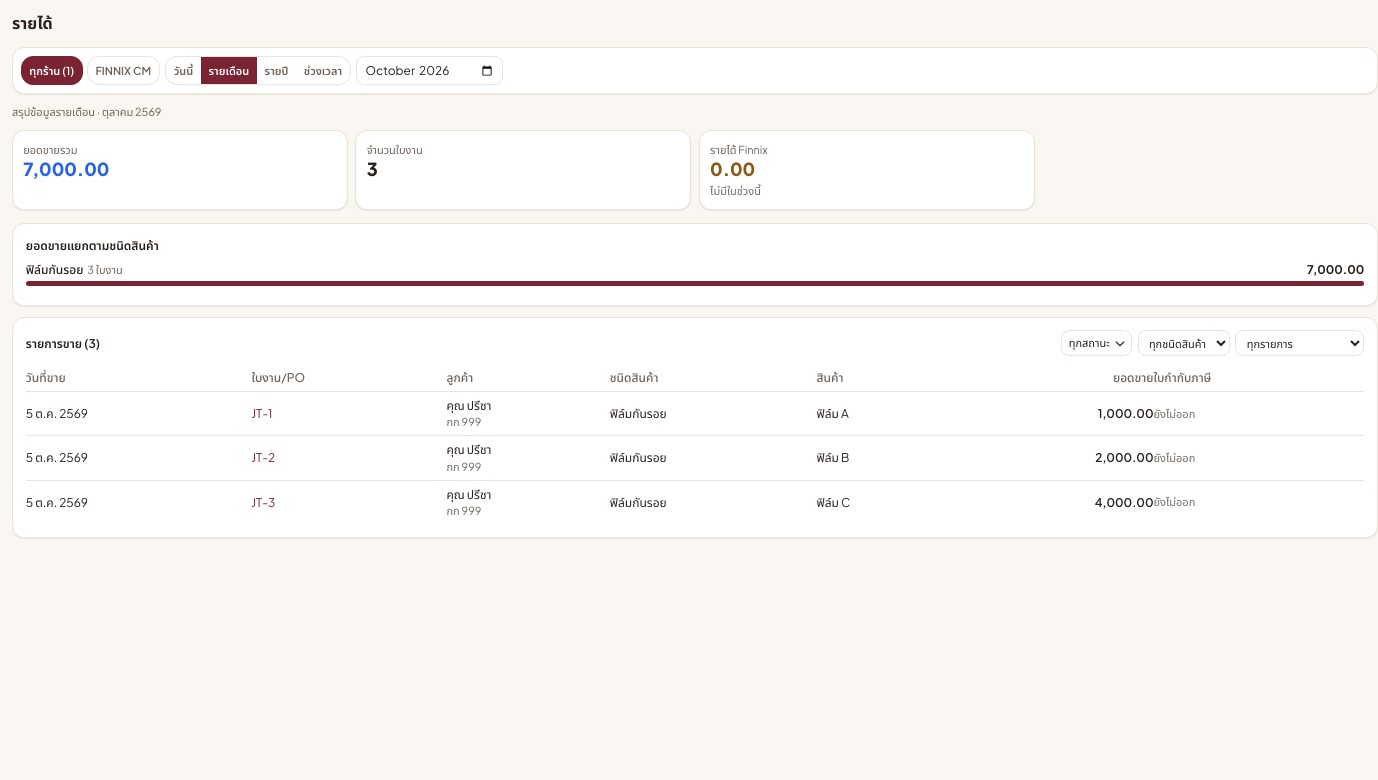
Scenario: RevenueModule — กรองตามสถานะงาน › เสนอเฉพาะสถานะที่มีจริงในช่วงที่ดูอยู่
The image size is (1378, 780).
Click the button with aria-label "กรองตามสถานะงาน". click: coordinates (1097, 343)
box: [1061,330,1132,356]
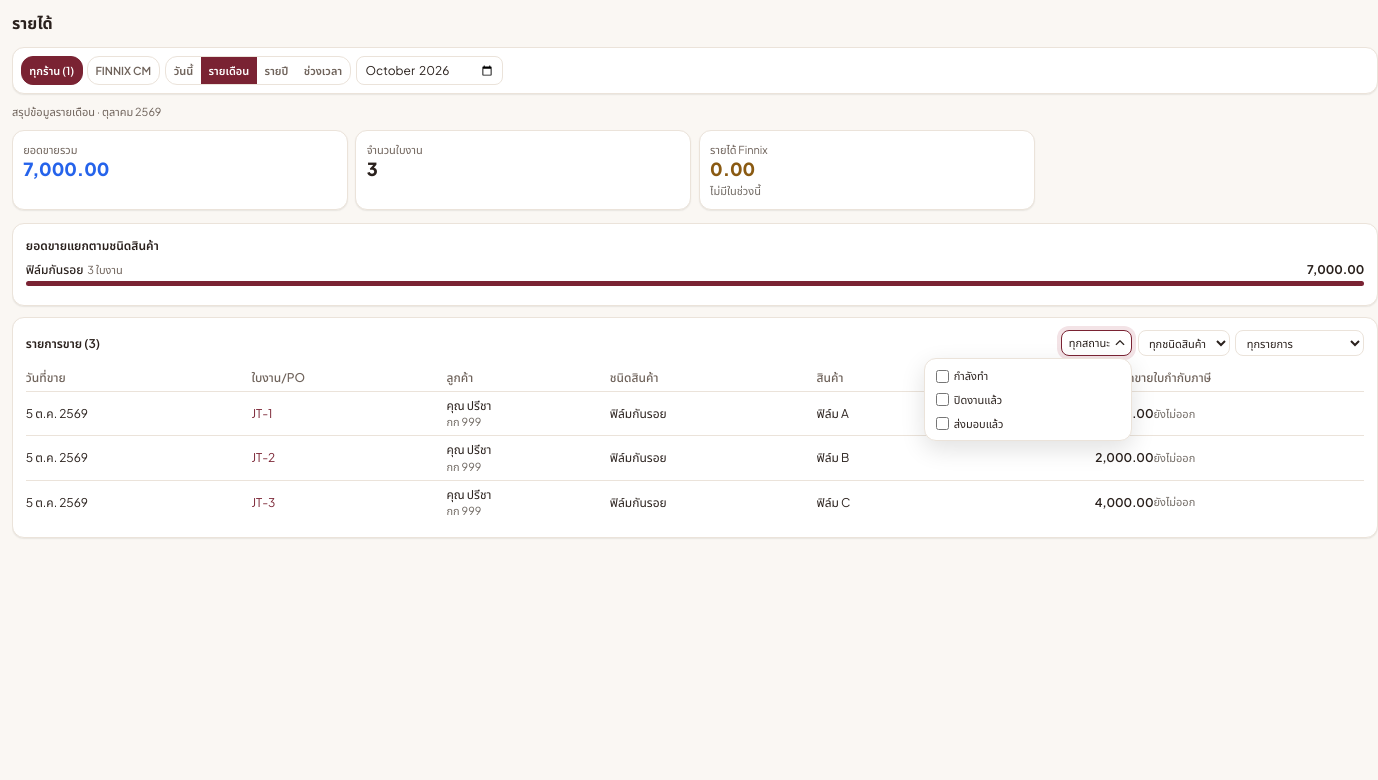
Now the checkbox labelled "ส่งมอบแล้ว" is shown, box [936,417,949,430]
Now the checkbox labelled "กำลังทำ" is shown, box [936,370,949,383]
Now the checkbox labelled "ปิดงานแล้ว" is shown, box [936,393,949,406]
